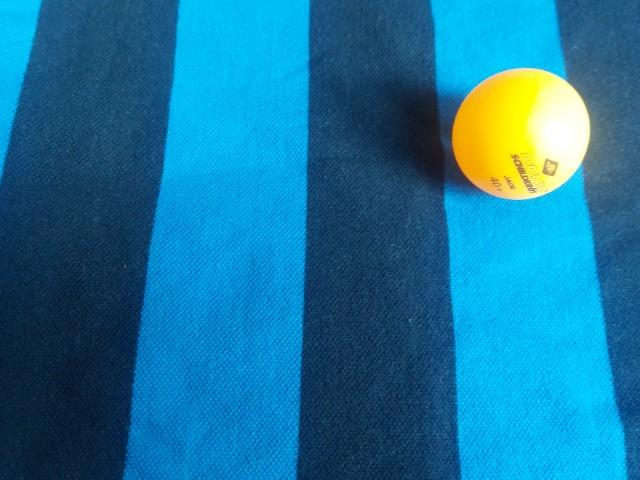oball: (448, 61, 595, 206)
